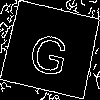G: (26, 25, 74, 78)
